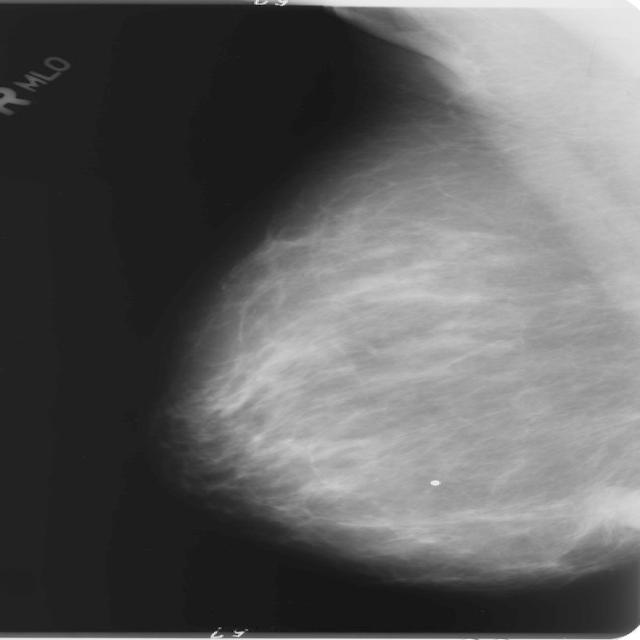tumour: (588, 487, 638, 531)
